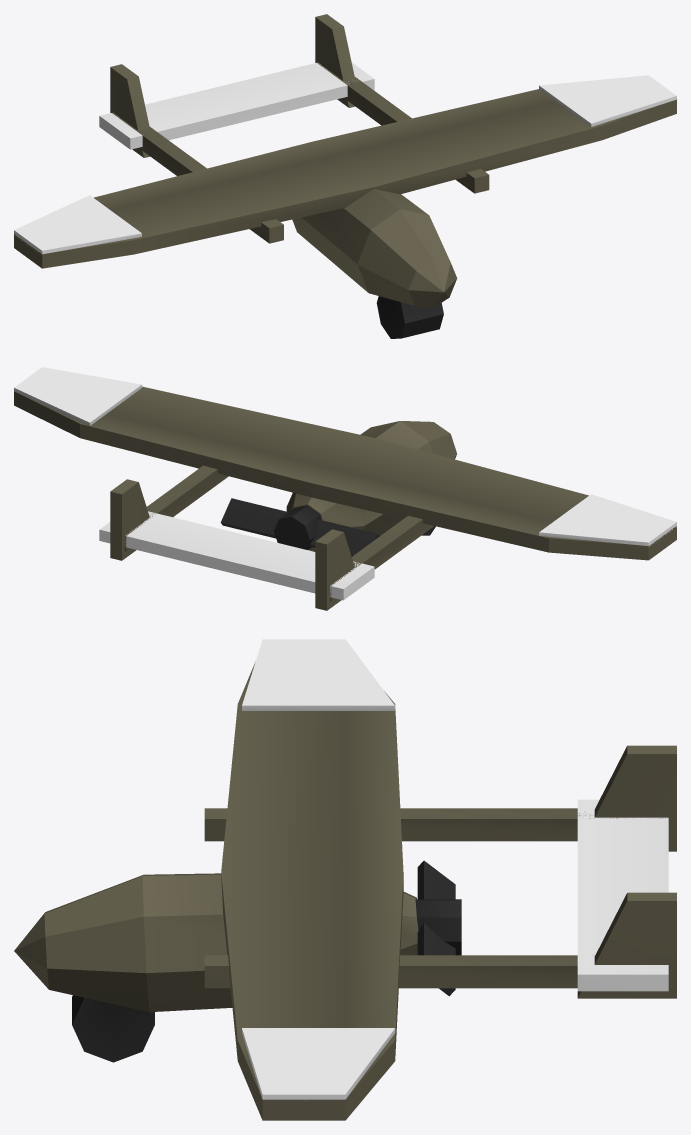
File: ru-orlan.glb
The picture shows the model from 3 angles, top to bottom: view 1: azimuth 30°, elevation 25°; view 2: azimuth 150°, elevation 25°; view 3: azimuth 270°, elevation 25°; orthographic projection. The views are drawn at different scales.
Visible parts, largest first — view 1: ru-orlan; view 2: ru-orlan, prop; view 3: ru-orlan, prop.
Boxes of the visible parts, box(x1,y1,x2,y2) form: ru-orlan: box(14, 14, 676, 338); ru-orlan: box(14, 367, 676, 610); prop: box(220, 498, 379, 556); ru-orlan: box(14, 639, 676, 1120); prop: box(415, 860, 461, 996).
Size of the model in its own units: 1.3 by 0.3 by 0.8.
